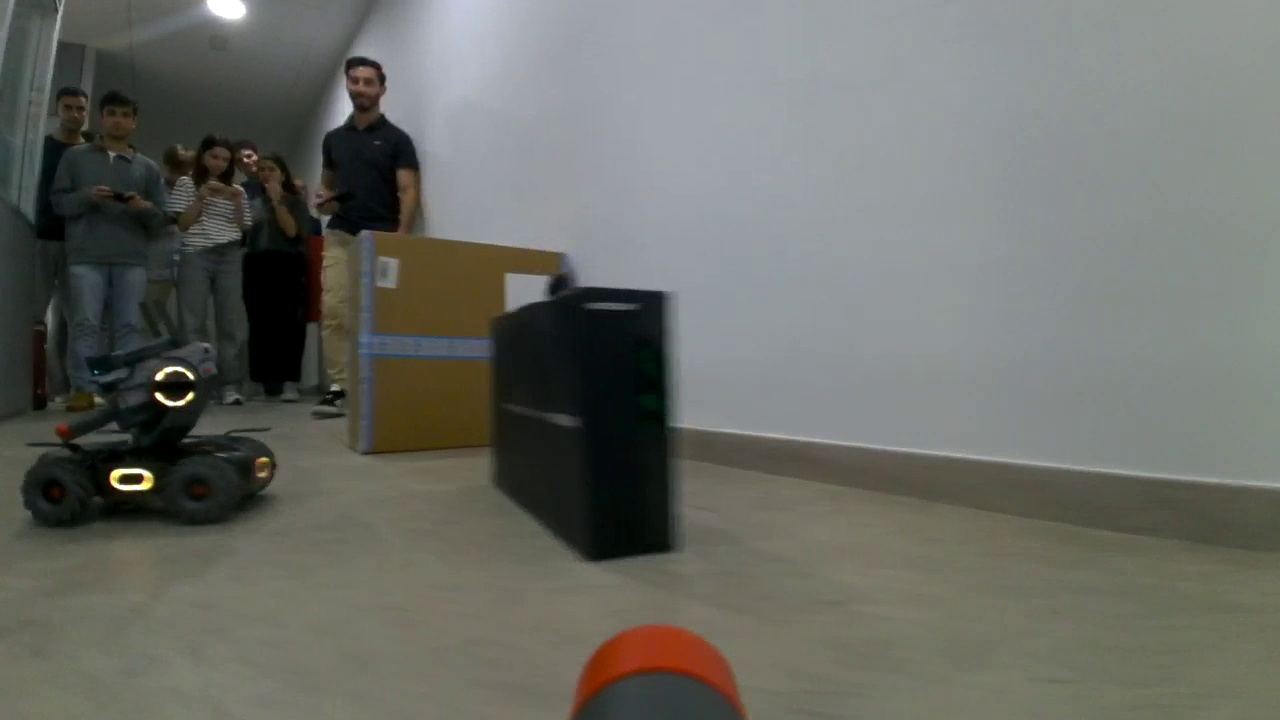robot: (20, 335, 281, 530)
